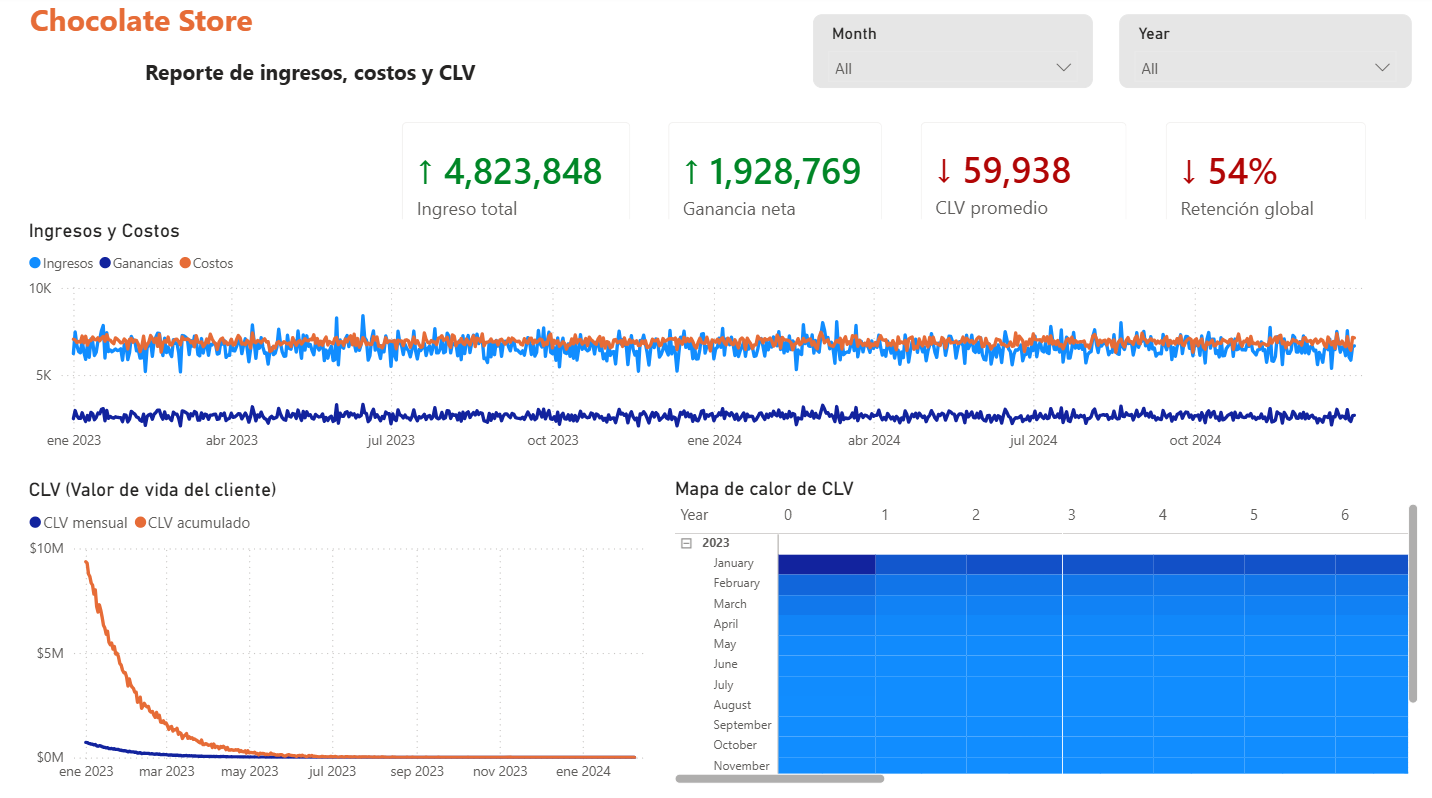

The page's visual inventory and layout, read from the dashboard file:
{"tool":"powerbi","page":{"name":"Page 1","canvas":[1280,720],"ordinal":0},"visuals":[{"type":"cardVisual","title":"Ingreso total","fields":{"Data":["revenue_per_country (3).revenueTendencia"]},"box":[342.6,98.1,231.1,139.8],"z":0},{"type":"cardVisual","fields":{"Data":["monthly_cohort (2).CLVtendencia"]},"box":[803.5,97.5,217.4,137.2],"z":1000},{"type":"cardVisual","fields":{"Data":["revenueCOUNTRY.profitTendencia"]},"box":[579.3,97.9,224.4,139.5],"z":2000},{"type":"cardVisual","fields":{"Data":["monthly_retention.Retention_Tendencia"]},"box":[1021.2,97.7,212.8,139.5],"z":3000},{"type":"lineChart","title":"Ingresos y Costos","fields":{"Y":["Sum(revenueCOUNTRY.profit)","Sum(revenueCOUNTRY.revenue)","Sum(unit_COSTPERPRODUCT.unit_cost)"],"Category":["calendar.date.Variation.Date Hierarchy.Year","calendar.date.Variation.Date Hierarchy.Quarter","calendar.date.Variation.Date Hierarchy.Month","calendar.date.Variation.Date Hierarchy.Day"]},"box":[22.1,201.2,1211.6,218.6],"z":4000},{"type":"slicer","fields":{"Values":["calendar.date.Variation.Date Hierarchy.Month"]},"box":[724.7,19.2,249.1,65.4],"z":5000},{"type":"pivotTable","title":"Mapa de calor de CLV","fields":{"Rows":["calendar.date.Variation.Date Hierarchy.Year","calendar.date.Variation.Date Hierarchy.Month"],"Values":["Sum(monthly_cohort (2).total_monthly_clv)"],"Columns":["monthlyCOHORT.cohort_month"]},"box":[596.5,430.2,668.6,277.9],"z":6000},{"type":"lineChart","title":"CLV (Valor de vida del cliente)","fields":{"Category":["calendar.date.Variation.Date Hierarchy.Year","calendar.date.Variation.Date Hierarchy.Quarter","calendar.date.Variation.Date Hierarchy.Month","calendar.date.Variation.Date Hierarchy.Day"],"Y":["Sum(monthlyCOHORT.total_clv)","Sum(monthlyCOHORT.total_monthly_clv)"]},"box":[22.5,430.6,573.7,278.4],"z":7000},{"type":"slicer","fields":{"Values":["calendar.date.Variation.Date Hierarchy.Year"]},"box":[996.4,19.2,260.4,65.4],"z":8000},{"type":"textbox","box":[23.3,0,512.8,112.8],"z":9000}]}

Visuals, with their boxes in screenshot pixels (x1, y1, x2, y2), scaled from the page's 1280x720 canvas onto the 1432x798 screenshot:
"Ingreso total" cardVisual: bbox=(383, 109, 642, 264)
cardVisual - monthly_cohort (2).CLVtendencia: bbox=(899, 108, 1142, 260)
cardVisual - revenueCOUNTRY.profitTendencia: bbox=(648, 109, 899, 263)
cardVisual - monthly_retention.Retention_Tendencia: bbox=(1142, 108, 1381, 263)
"Ingresos y Costos" lineChart: bbox=(25, 223, 1380, 465)
slicer - calendar.date.Variation.Date Hierarchy.Month: bbox=(811, 21, 1089, 94)
"Mapa de calor de CLV" pivotTable: bbox=(667, 477, 1415, 785)
"CLV (Valor de vida del cliente)" lineChart: bbox=(25, 477, 667, 786)
slicer - calendar.date.Variation.Date Hierarchy.Year: bbox=(1115, 21, 1406, 94)
textbox: bbox=(26, 0, 600, 125)
